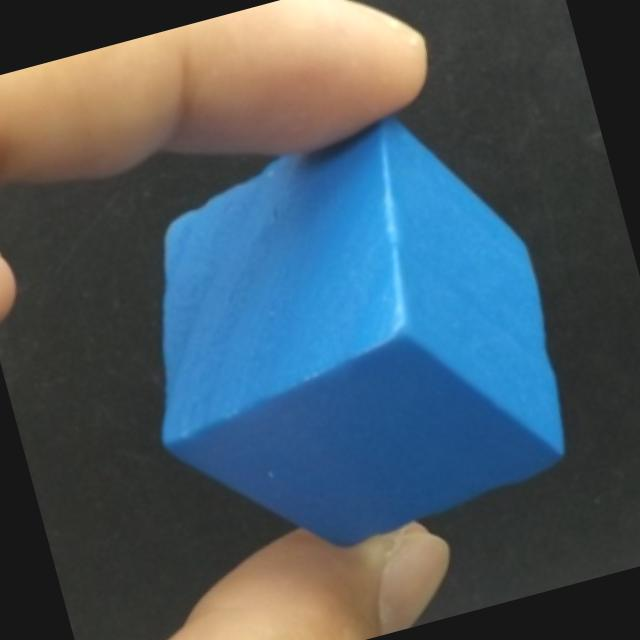bluecube: (159, 117, 567, 550)
